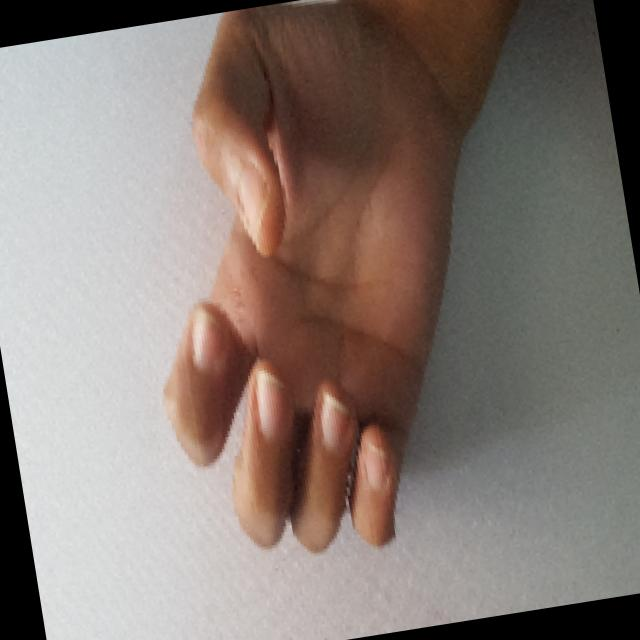Nail: (239, 166, 268, 247), (256, 369, 283, 437), (193, 310, 220, 368), (320, 392, 347, 447), (363, 436, 384, 483)
